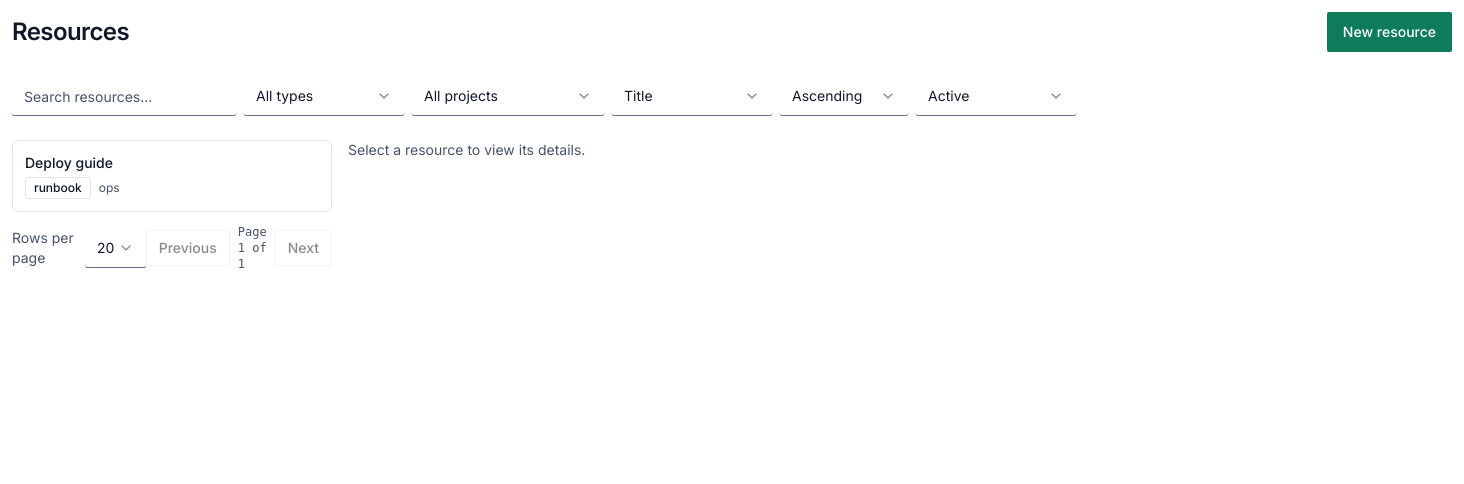
Test: ResourcesPage › RBAC-gated detail actions › shows Add version to admin and member on an active resource
What coordinates should you click on to do the following:
click the text "Deploy guide"
I would click on:
 (69, 163)
Its box is 25,153 -> 113,173.
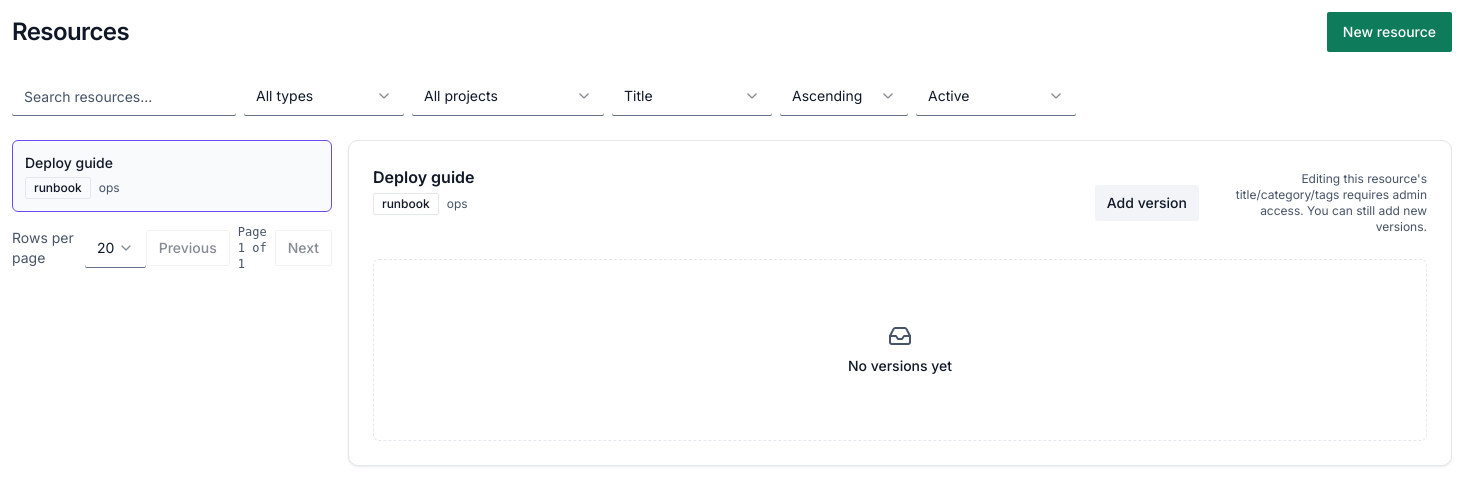
Result: the button "Add version" is shown at 1095,185 -> 1199,221
